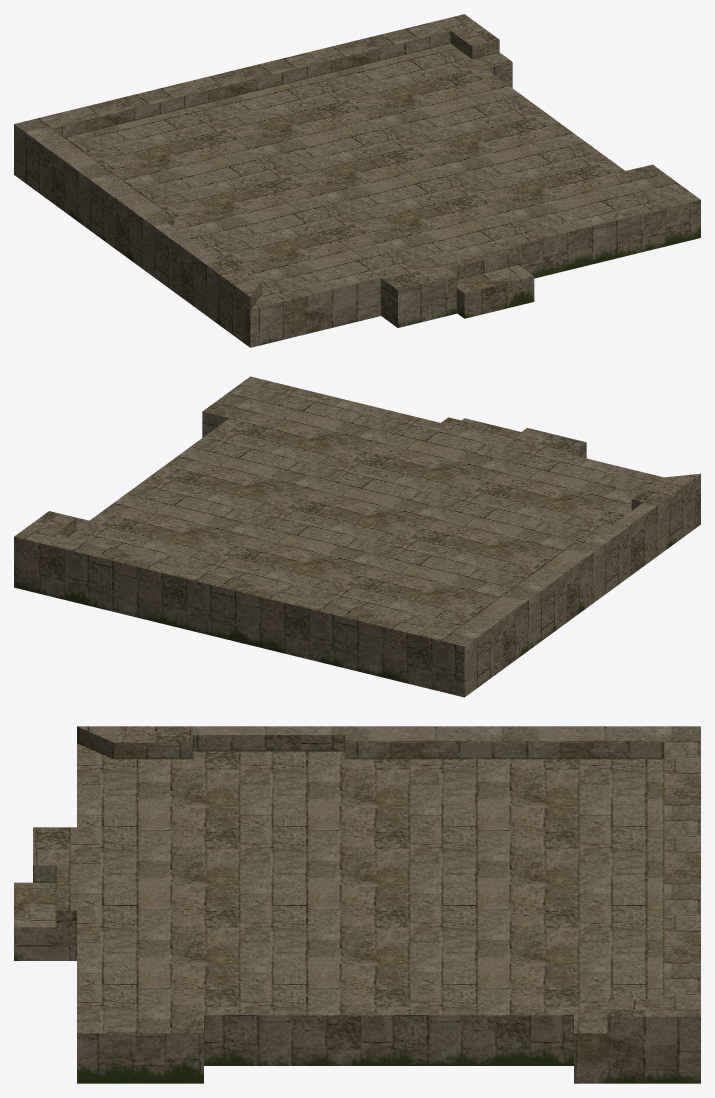
Rendered from prop-stone-platform.glb.
3 renders of one model, top to bottom at view 1: azimuth 30°, elevation 25°; view 2: azimuth 150°, elevation 25°; view 3: azimuth 270°, elevation 25°, orthographic. The views are drawn at different scales.
Parts seen in each view (by area): view 1: Cube.006; view 2: Cube.006; view 3: Cube.006.
Boxes of the visible parts, bbox=[...] form: Cube.006: bbox=[14, 14, 700, 347]; Cube.006: bbox=[14, 376, 700, 697]; Cube.006: bbox=[14, 726, 700, 1083].
Bounding box in the file's own units: 20 × 2.15 × 20.
Materials: 1 (1 with a texture image).
